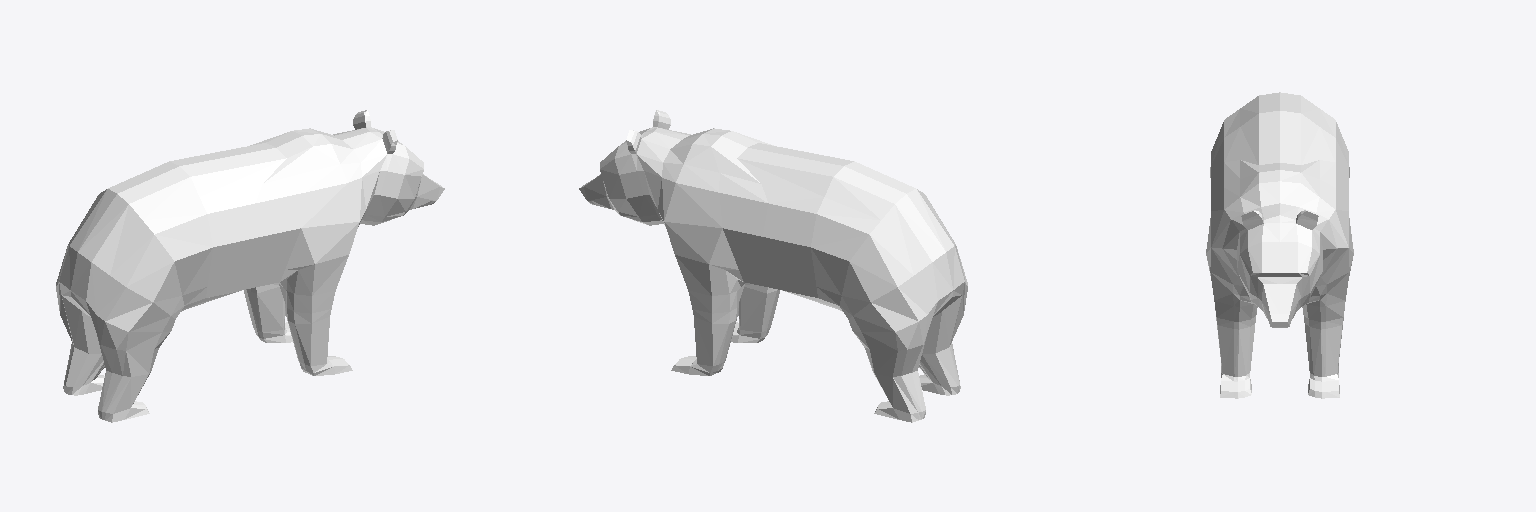
Rendered from bear2.obj.
3 renders of one model, left to right at view 1: azimuth 30°, elevation 25°; view 2: azimuth 150°, elevation 25°; view 3: azimuth 270°, elevation 25°, orthographic.
Parts seen in each view (by area): view 1: Low_Poly_Bear_V2; view 2: Low_Poly_Bear_V2; view 3: Low_Poly_Bear_V2.
Part boxes in pixels (left/top/right/bottom): Low_Poly_Bear_V2: left=56, top=110, right=444, bottom=422; Low_Poly_Bear_V2: left=579, top=110, right=967, bottom=422; Low_Poly_Bear_V2: left=1206, top=92, right=1353, bottom=398.
Size of the model in its own units: 5.88 by 3.3 by 2.03.